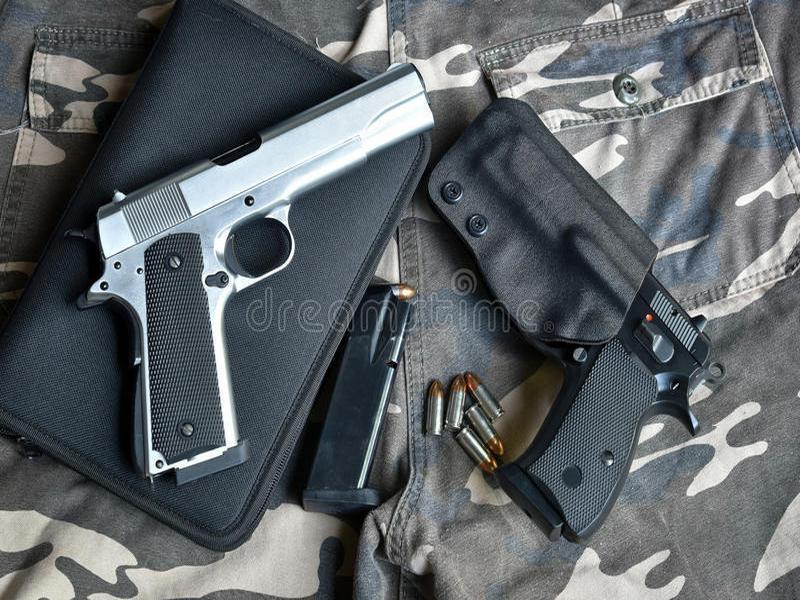GUN: (70, 58, 444, 487), (499, 262, 734, 541)
